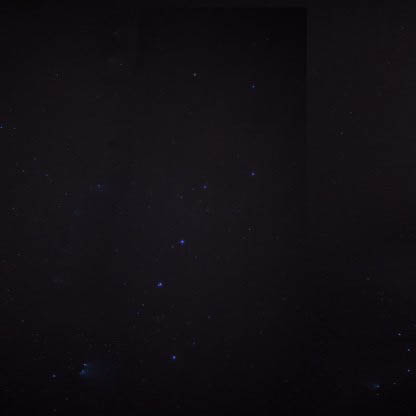Ursa Major: (169, 232, 193, 255), (187, 66, 208, 92), (150, 269, 168, 296), (164, 345, 184, 367), (197, 177, 216, 196), (243, 163, 261, 182), (249, 79, 266, 99)
